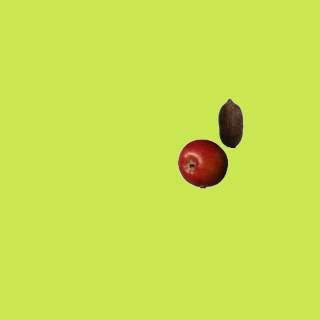Apple Braeburn: (177, 138, 227, 188)
Nut Pecan: (205, 97, 255, 147)
